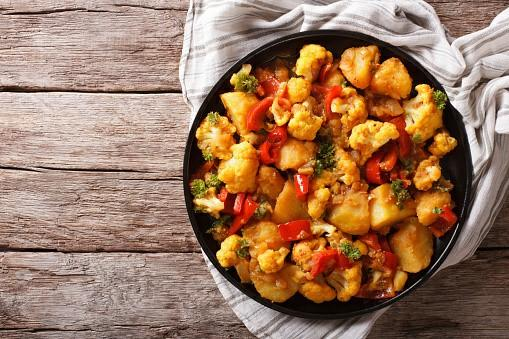AlooGobi: (190, 44, 457, 304)
